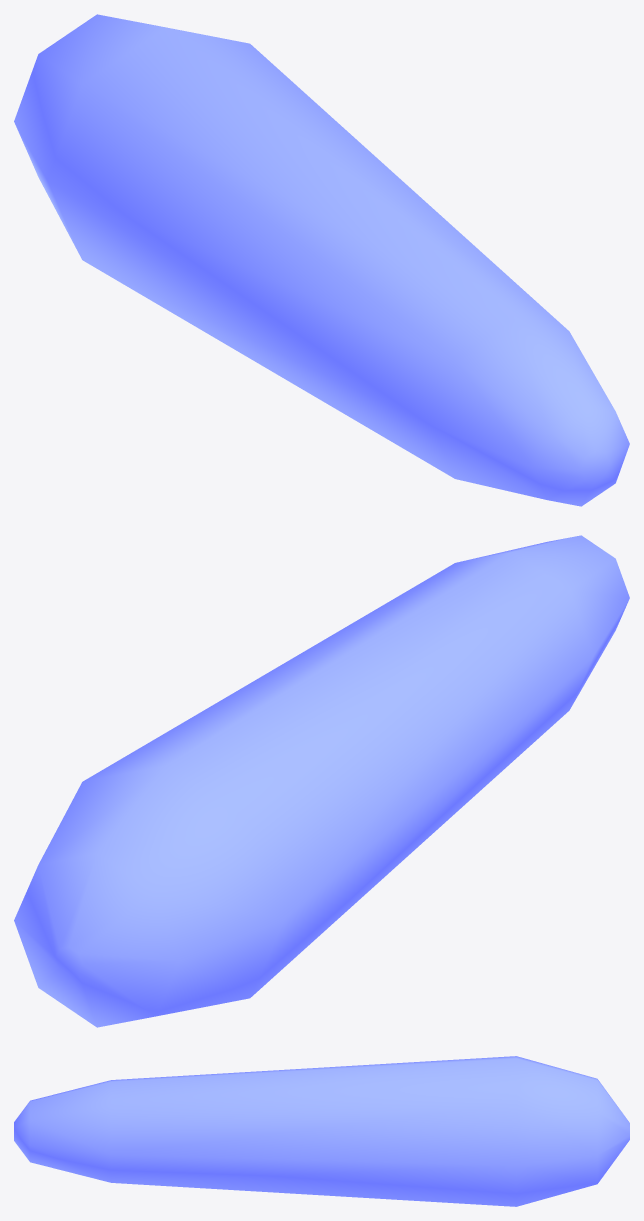
File: Ionbolt-v01.glb
3 renders of one model, top to bottom at view 1: azimuth 30°, elevation 25°; view 2: azimuth 150°, elevation 25°; view 3: azimuth 270°, elevation 25°, orthographic. The views are drawn at different scales.
Parts seen in each view (by area): view 1: Cylinder; view 2: Cylinder; view 3: Cylinder.
Part boxes in pixels (x1,y1,x2,y2): Cylinder: (14, 14, 629, 506); Cylinder: (14, 535, 629, 1027); Cylinder: (14, 1056, 629, 1206).
Bounding box in the file's own units: 0.0396 × 0.0396 × 0.152.
